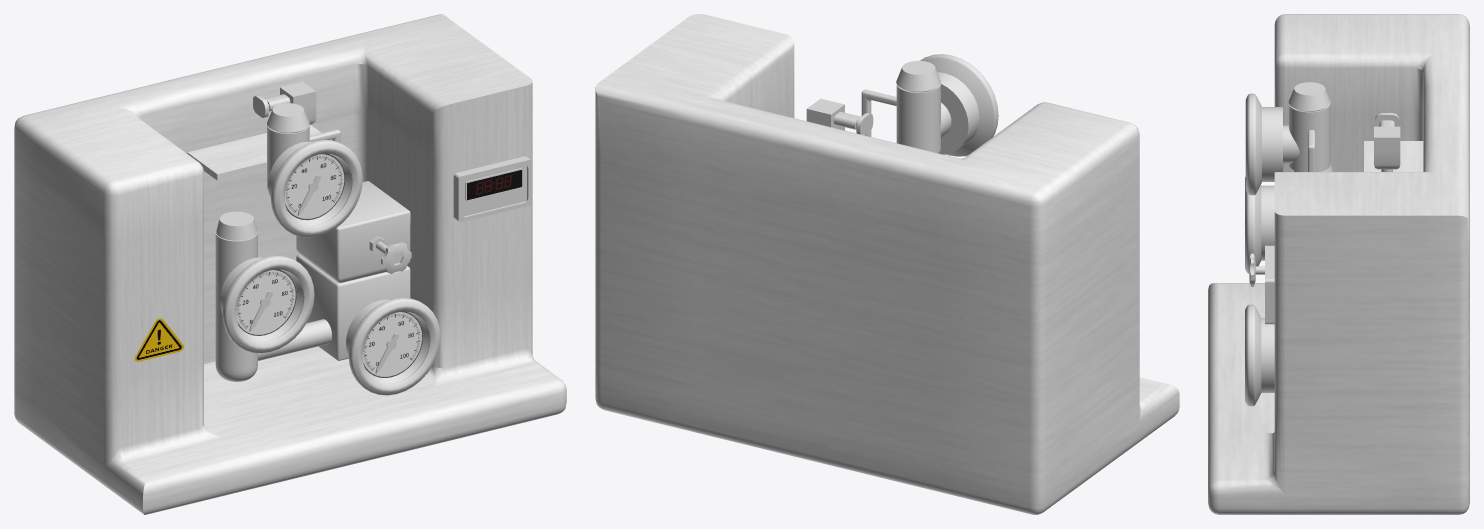
File: meter.fbx
3 renders of one model, left to right at view 1: azimuth 30°, elevation 25°; view 2: azimuth 150°, elevation 25°; view 3: azimuth 270°, elevation 25°, orthographic. The views are drawn at different scales.
Visible parts, largest first — view 1: Cube, Cube.001, Cylinder.003, Cylinder.011, Cylinder.001, Cylinder.006, Cylinder.016, Cylinder.017, Cube.004, Cylinder.018, Cylinder.009, Cube.002 (+7 smaller); view 2: Cube, Cylinder.009, Cylinder.011, Cylinder.010, Cube.002; view 3: Cube, Cylinder.009, Cylinder.010, Cylinder.011, Cylinder.006, Cube.002, Cylinder.001, Cylinder.005, Cylinder, Cube.004, Cube.003.
Boxes of the visible parts, bbox=[...] form: Cube: bbox=[14, 14, 566, 514]; Cube.001: bbox=[296, 181, 410, 360]; Cylinder.003: bbox=[215, 211, 257, 381]; Cylinder.011: bbox=[271, 139, 362, 237]; Cylinder.001: bbox=[222, 255, 314, 353]; Cylinder.006: bbox=[348, 297, 440, 395]; Cylinder.016: bbox=[236, 269, 296, 335]; Cylinder.017: bbox=[362, 311, 422, 377]; Cube.004: bbox=[453, 156, 531, 222]; Cylinder.018: bbox=[284, 153, 345, 220]; Cylinder.009: bbox=[267, 103, 309, 189]; Cube.002: bbox=[253, 81, 316, 124]; Cube: bbox=[595, 14, 1179, 514]; Cylinder.009: bbox=[896, 60, 940, 153]; Cylinder.011: bbox=[920, 54, 998, 156]; Cylinder.010: bbox=[937, 72, 979, 154]; Cube.002: bbox=[806, 98, 873, 135]; Cube: bbox=[1208, 14, 1469, 514]; Cylinder.009: bbox=[1288, 82, 1330, 171]; Cylinder.010: bbox=[1262, 107, 1299, 181]; Cylinder.011: bbox=[1245, 93, 1261, 195]; Cylinder.006: bbox=[1245, 304, 1261, 406]; Cube.002: bbox=[1374, 113, 1400, 171]; Cylinder.001: bbox=[1245, 177, 1261, 273]; Cylinder.005: bbox=[1261, 318, 1274, 392]; Cylinder: bbox=[1261, 185, 1274, 260]; Cube.004: bbox=[1265, 245, 1274, 324]; Cube.003: bbox=[1307, 130, 1315, 171].
Size of the model in its own units: 116 by 84.25 by 62.62.
